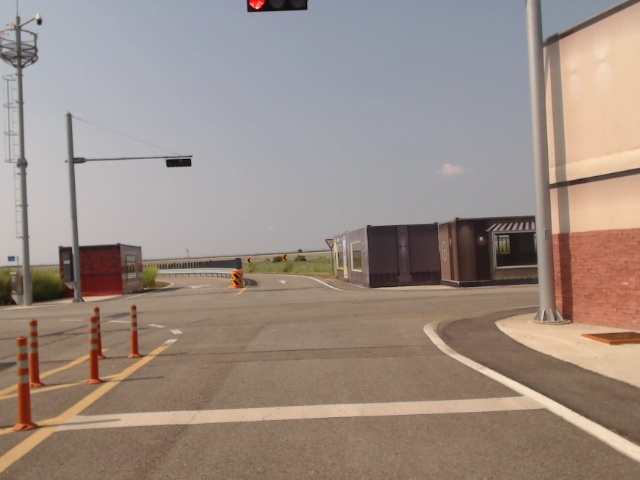red_3: (246, 0, 307, 12)
